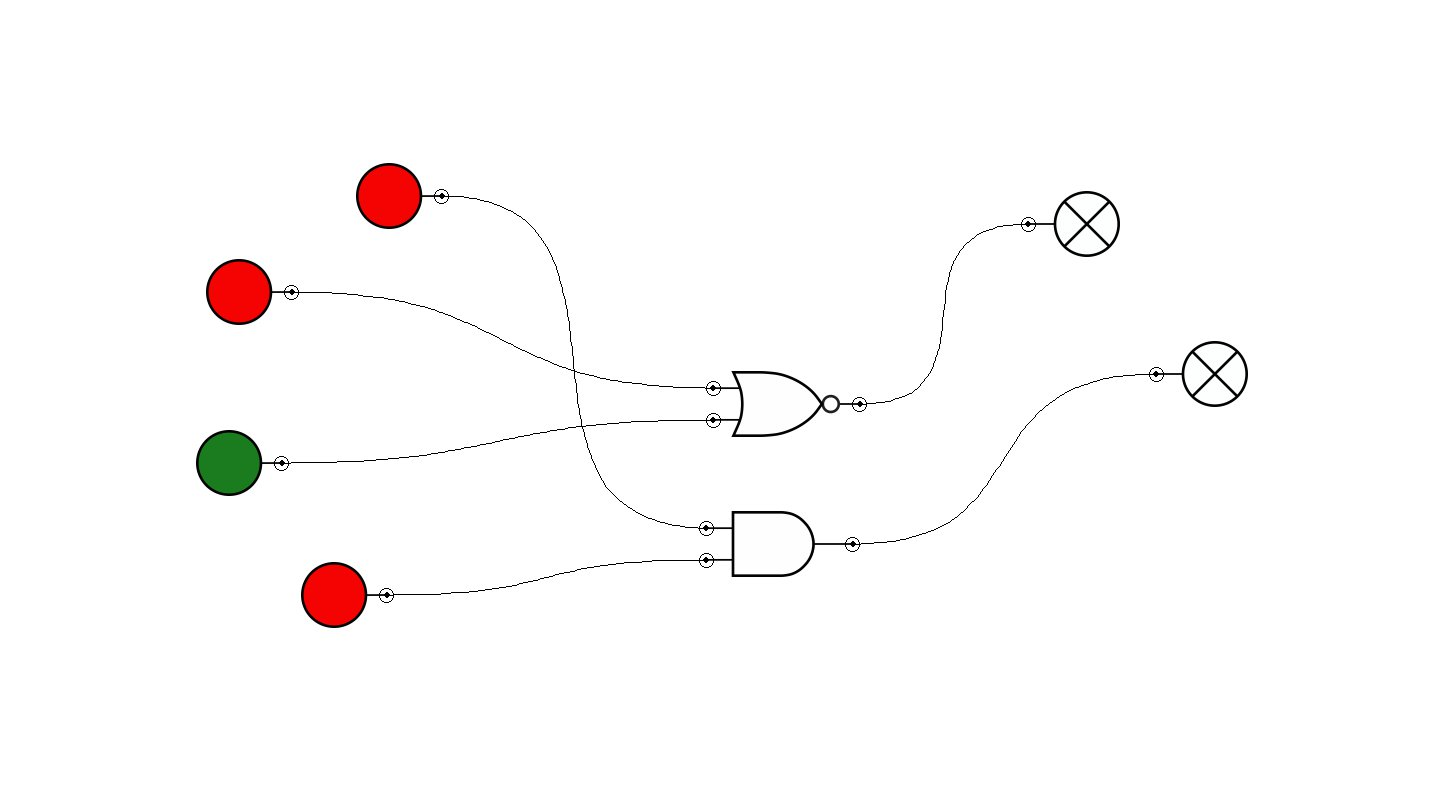and: (699, 511, 860, 577)
bulb: (1021, 191, 1120, 257), (1149, 341, 1248, 407)
nor: (706, 371, 867, 437)
switch_False: (356, 163, 449, 229), (301, 562, 394, 628), (206, 259, 299, 325)
switch_True: (196, 430, 289, 496)
